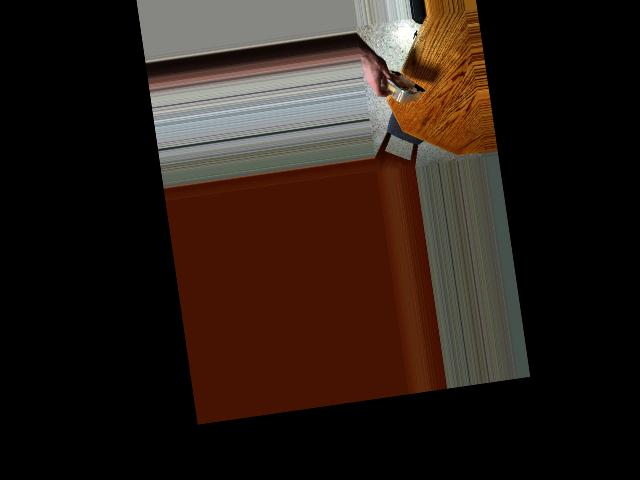cheese: (376, 60, 422, 116)
